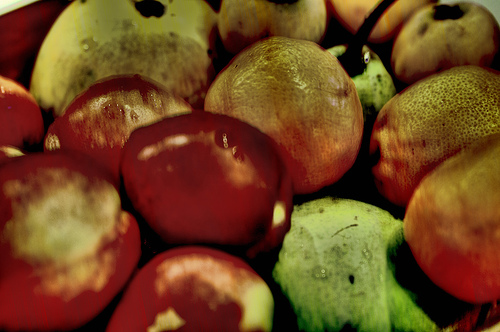apple: (119, 109, 294, 257), (107, 248, 275, 331)
